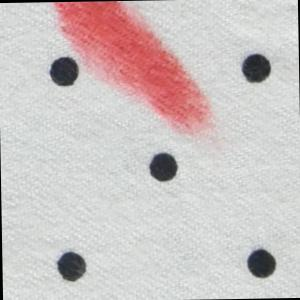Stain: (49, 1, 219, 147)
